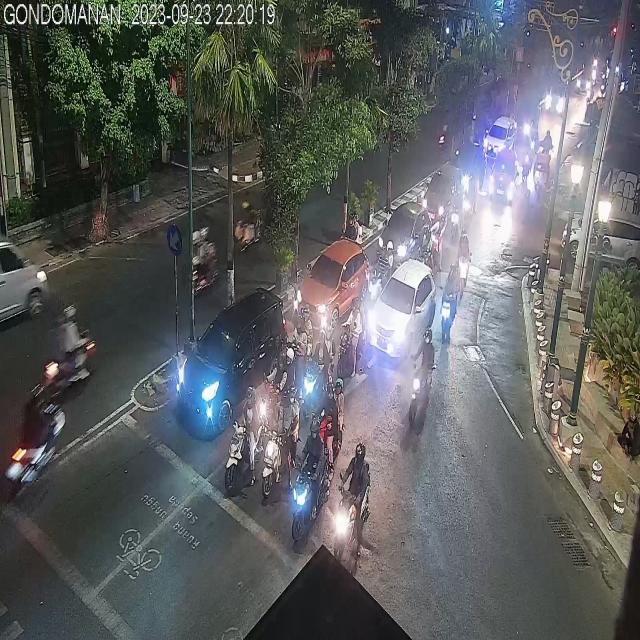car: (175, 287, 288, 443), (368, 256, 445, 361), (297, 236, 369, 332), (377, 200, 433, 274), (424, 168, 460, 226), (489, 151, 514, 209), (484, 117, 515, 158)
motorcycle: (6, 372, 57, 505), (333, 441, 372, 559), (291, 408, 326, 538), (45, 296, 93, 390), (225, 375, 259, 487), (263, 383, 296, 489), (301, 316, 331, 411), (406, 324, 432, 421), (264, 346, 294, 426), (185, 220, 219, 290), (320, 372, 346, 460), (339, 296, 364, 378), (232, 200, 262, 258), (439, 266, 458, 344), (455, 225, 474, 295)
